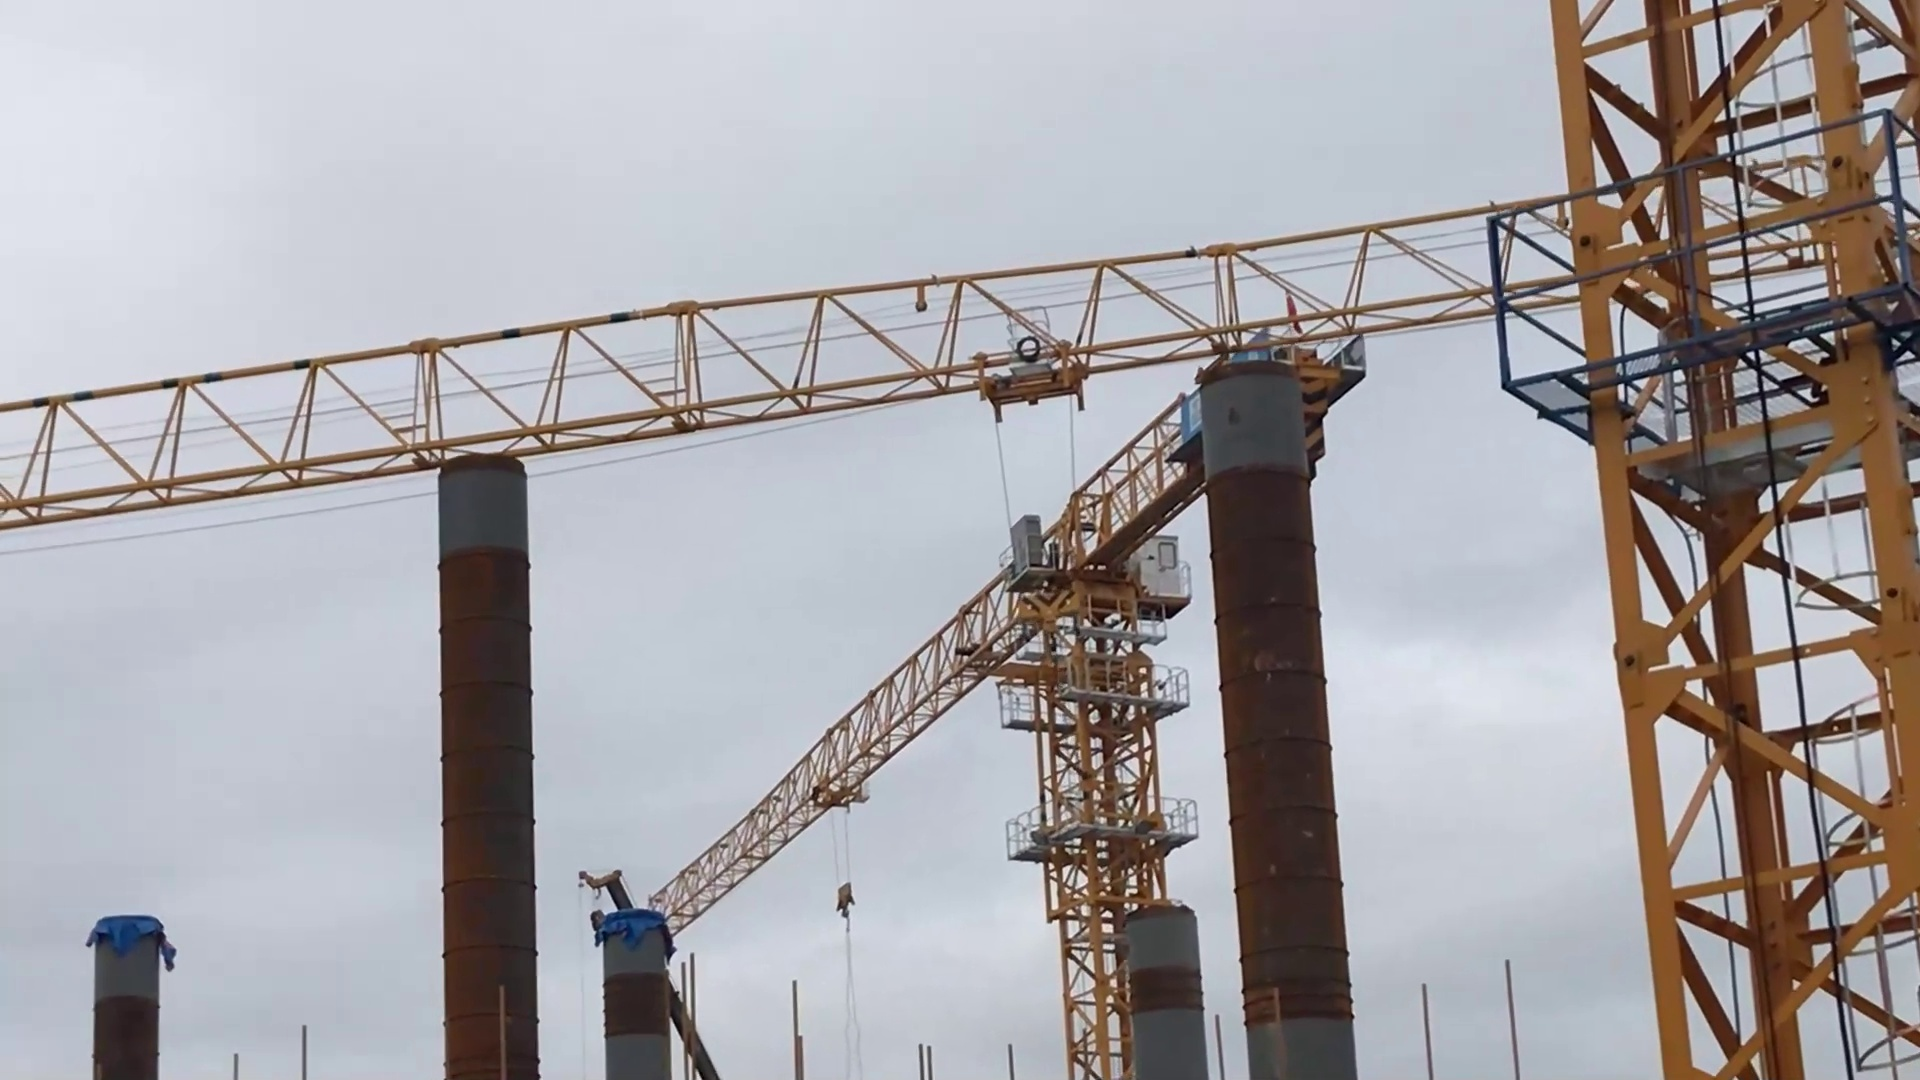hook: (820, 880, 869, 927)
